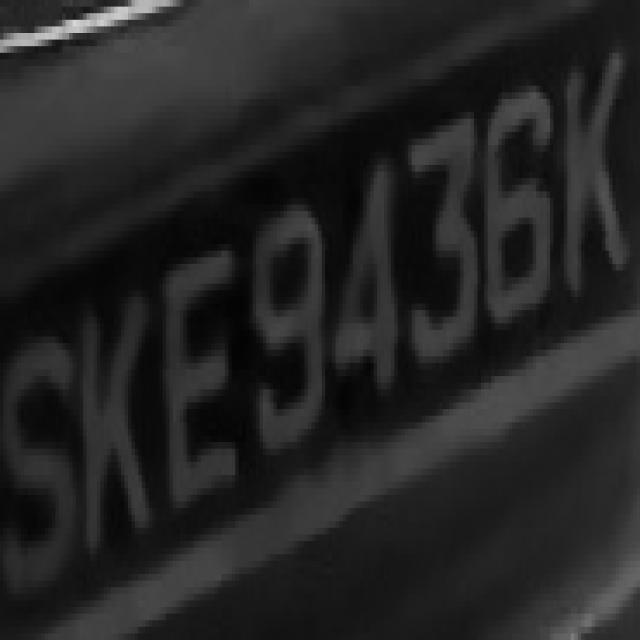3: (398, 112, 474, 370)
4: (325, 152, 412, 422)
6: (474, 79, 553, 350)
9: (238, 185, 328, 468)
E: (156, 218, 246, 534)
K: (62, 284, 156, 561), (554, 26, 636, 310)
S: (7, 317, 79, 594)
